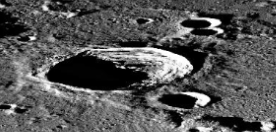crater: (17, 37, 220, 125)
